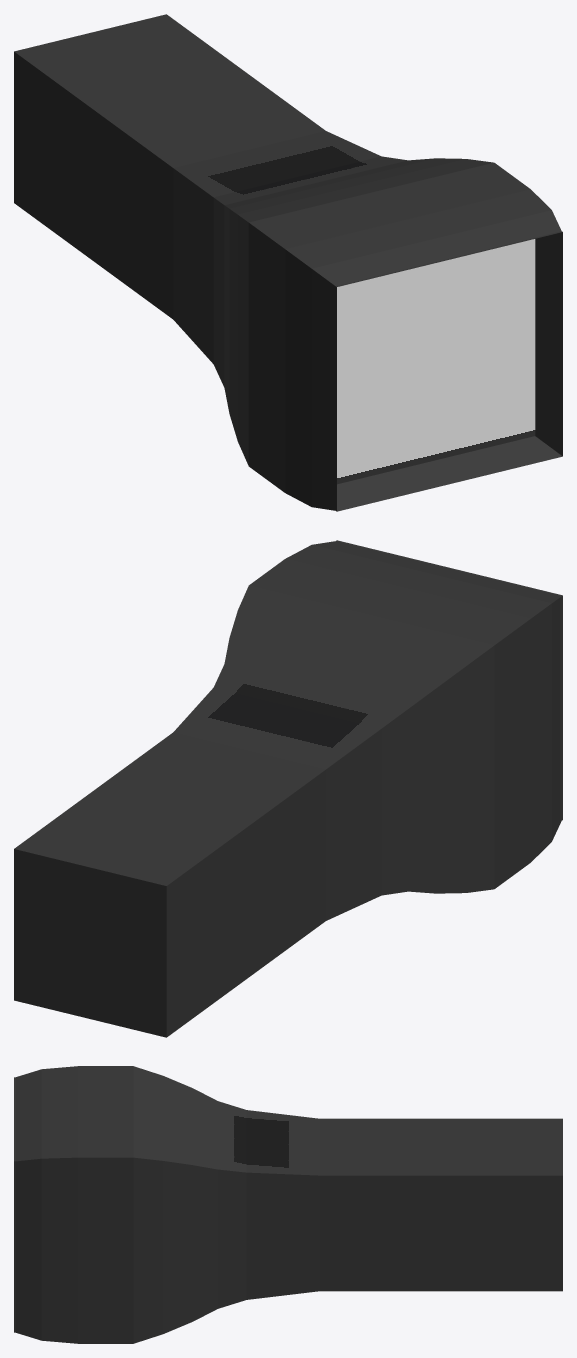
The model's file is fener.fbx.
3 views of the same model, one above another, from view 1: azimuth 30°, elevation 25°; view 2: azimuth 150°, elevation 25°; view 3: azimuth 270°, elevation 25° (orthographic). The views are drawn at different scales.
Parts seen in each view (by area): view 1: Cube; view 2: Cube; view 3: Cube.
Part boxes in pixels (x1,y1,x2,y2): Cube: [14, 14, 562, 511]; Cube: [14, 540, 562, 1037]; Cube: [14, 1066, 562, 1343].
Size of the model in its own units: 24.65 by 23.39 by 62.5.
1 material, 1 textured.
